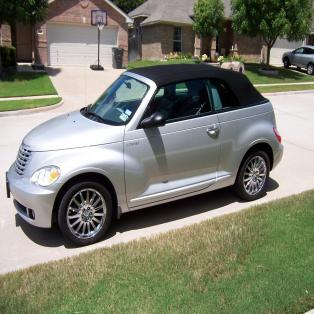Auto: (6, 64, 284, 247)
